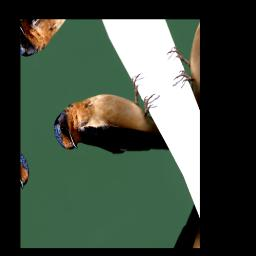Swallow: (48, 56, 178, 210)
